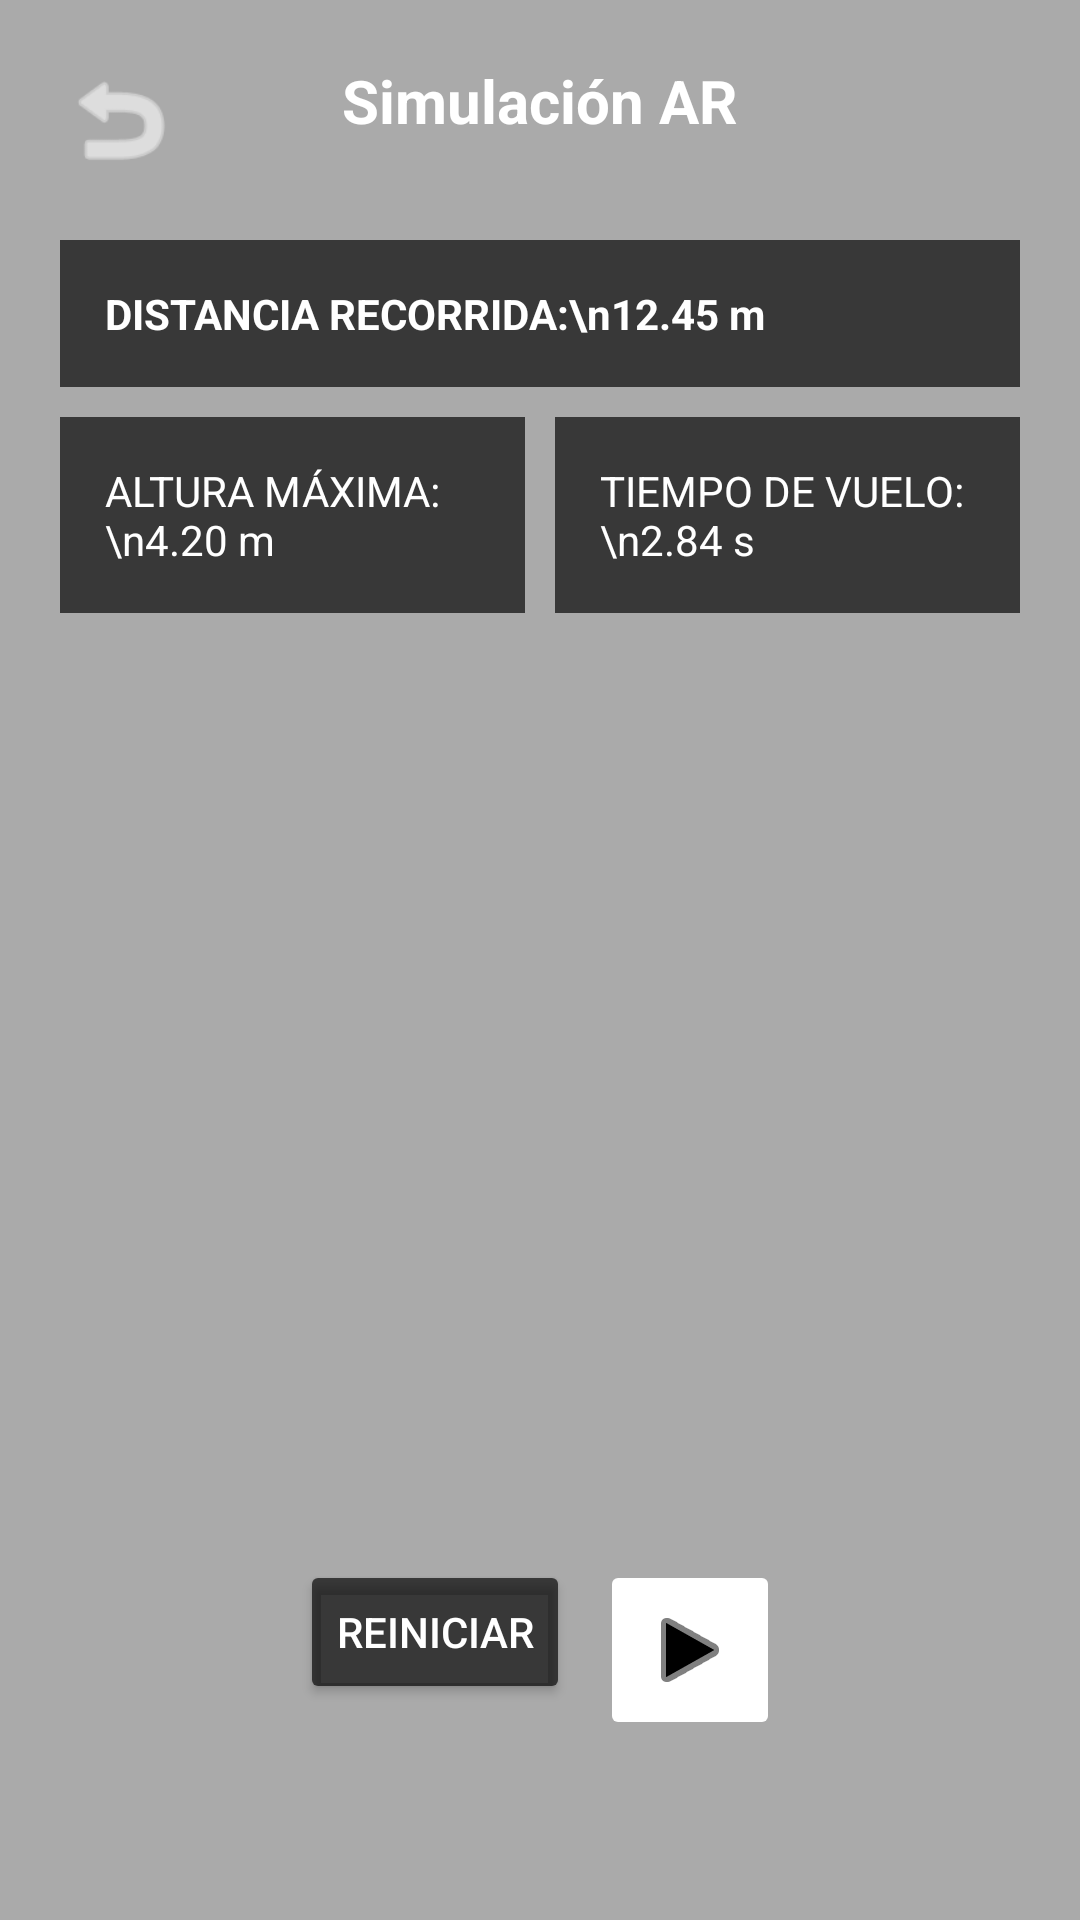

Screen size 1080x1920. Icon name, then its box in pixels as (x1=x1, y1=y1, x2=x2, y2=y2):
play: (x1=612, y1=1578, x2=768, y2=1722)
revert: (x1=79, y1=83, x2=164, y2=159)
